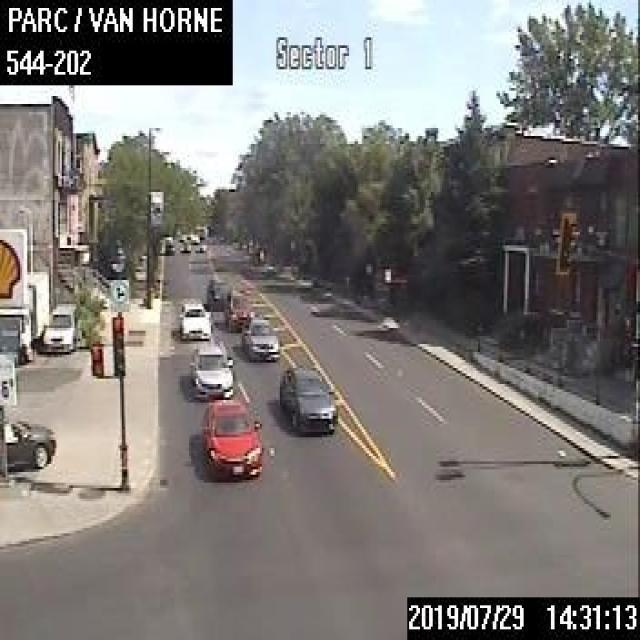Car: (201, 399, 263, 480), (279, 367, 337, 435), (0, 420, 56, 473), (189, 343, 234, 400)
